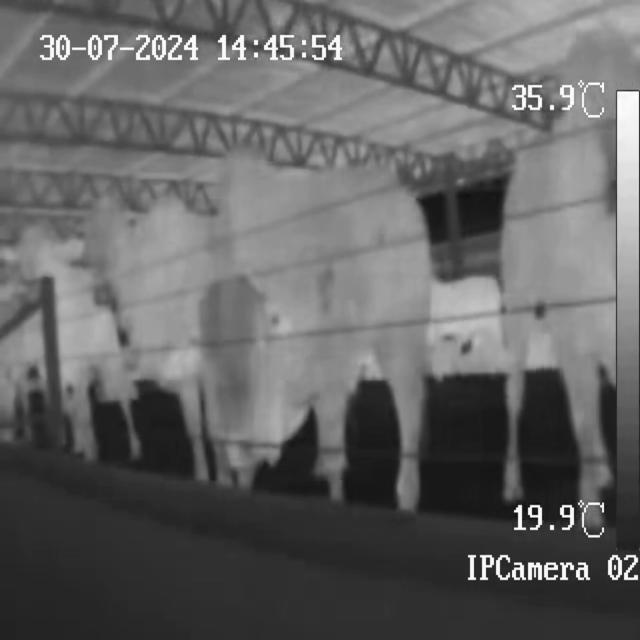head: (190, 269, 277, 468)
